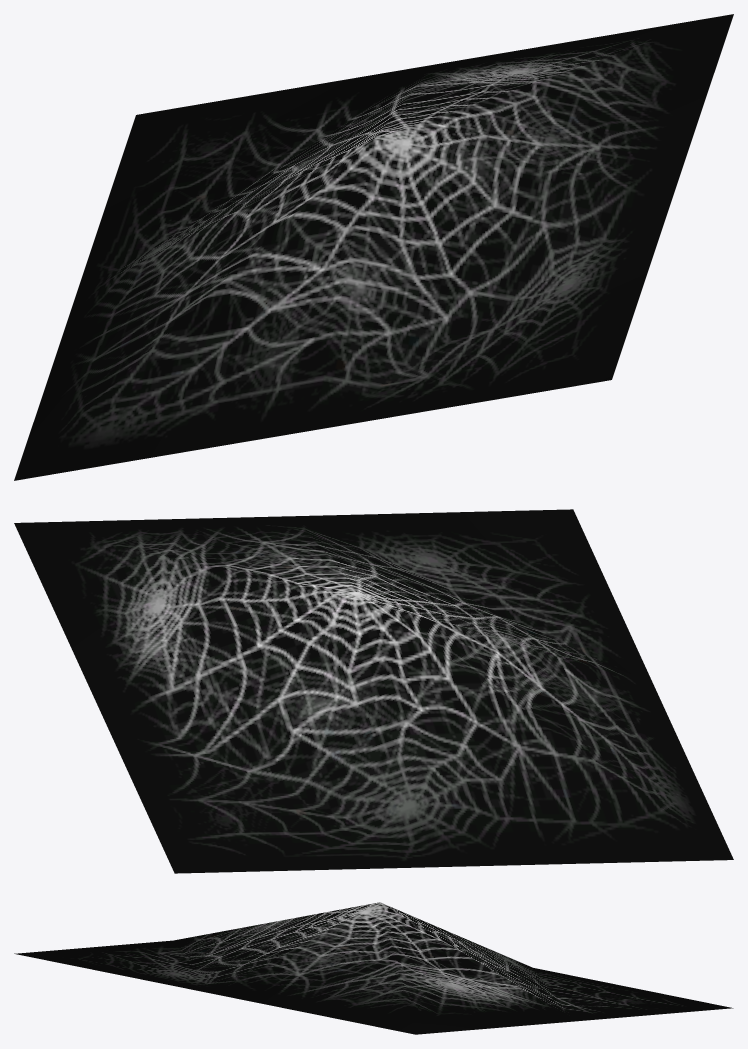
Rendered from MIRKWOOD_PLANE19.fbx.
The picture shows the model from 3 angles, top to bottom: view 1: azimuth 30°, elevation 25°; view 2: azimuth 150°, elevation 25°; view 3: azimuth 270°, elevation 25°; orthographic projection. The views are drawn at different scales.
Parts seen in each view (by area): view 1: MIRKWOOD_PLANE19; view 2: MIRKWOOD_PLANE19; view 3: MIRKWOOD_PLANE19.
Boxes of the visible parts, <box> form: MIRKWOOD_PLANE19: <box>14,14,733,480</box>; MIRKWOOD_PLANE19: <box>14,509,733,873</box>; MIRKWOOD_PLANE19: <box>14,902,733,1034</box>.
Bounding box in the file's own units: 151271 × 44514 × 158120.
1 material, 1 textured.
